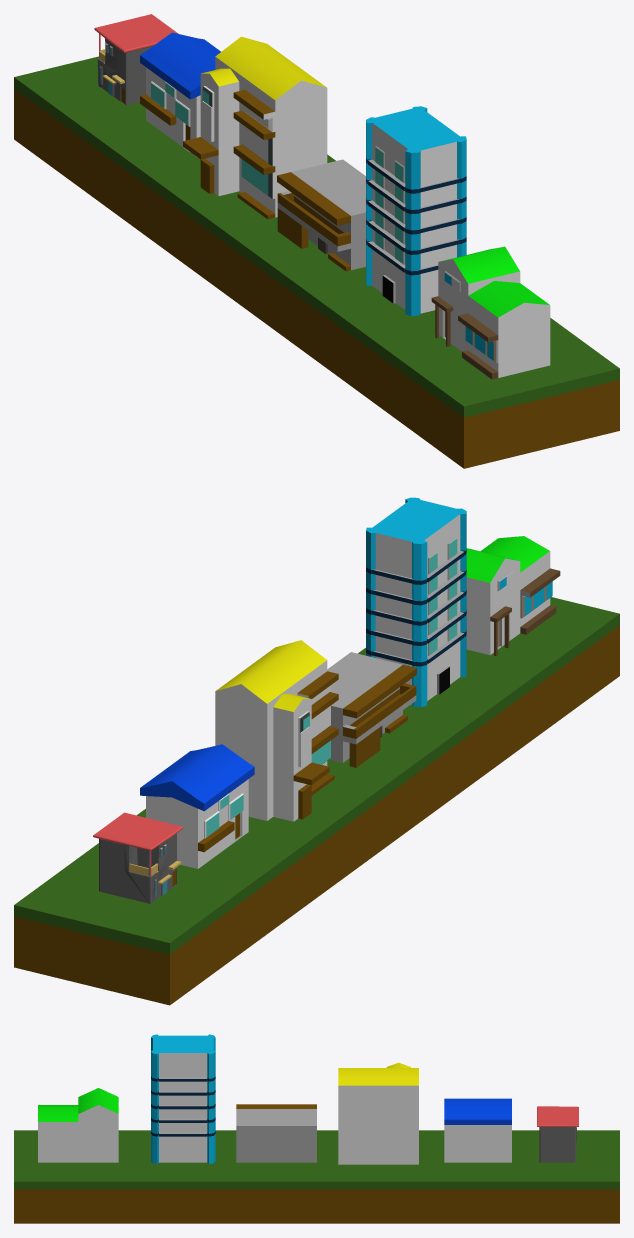
Rendered from building.fbx.
The picture shows the model from 3 angles, top to bottom: view 1: azimuth 30°, elevation 25°; view 2: azimuth 150°, elevation 25°; view 3: azimuth 270°, elevation 25°; orthographic projection. The views are drawn at different scales.
Parts seen in each view (by area): view 1: bace, bill01, bill02, house02, apa_to01, apa_to02, house01; view 2: bace, bill01, bill02, apa_to02, house02, apa_to01, house01; view 3: bace, bill01, bill02, house02, apa_to01, apa_to02, house01.
Part boxes in pixels (x1,y1,x2,y2): bace: (14,56,619,468); bill01: (366,106,466,315); bill02: (183,36,327,219); house02: (431,246,550,379); apa_to01: (277,159,365,271); apa_to02: (140,32,220,157); house01: (94,14,178,105); bace: (14,597,619,1005); bill01: (366,497,466,707); bill02: (215,640,338,821); apa_to02: (140,744,254,868); house02: (466,536,560,656); apa_to01: (327,652,416,767); house01: (93,812,183,903); bace: (14,1130,619,1223); bill01: (151,1034,215,1163); bill02: (338,1062,418,1164); house02: (38,1088,118,1162); apa_to01: (236,1104,316,1162); apa_to02: (444,1098,511,1162); house01: (537,1106,578,1162).
Bounding box in the file's own units: 30 × 41.96 × 150.
